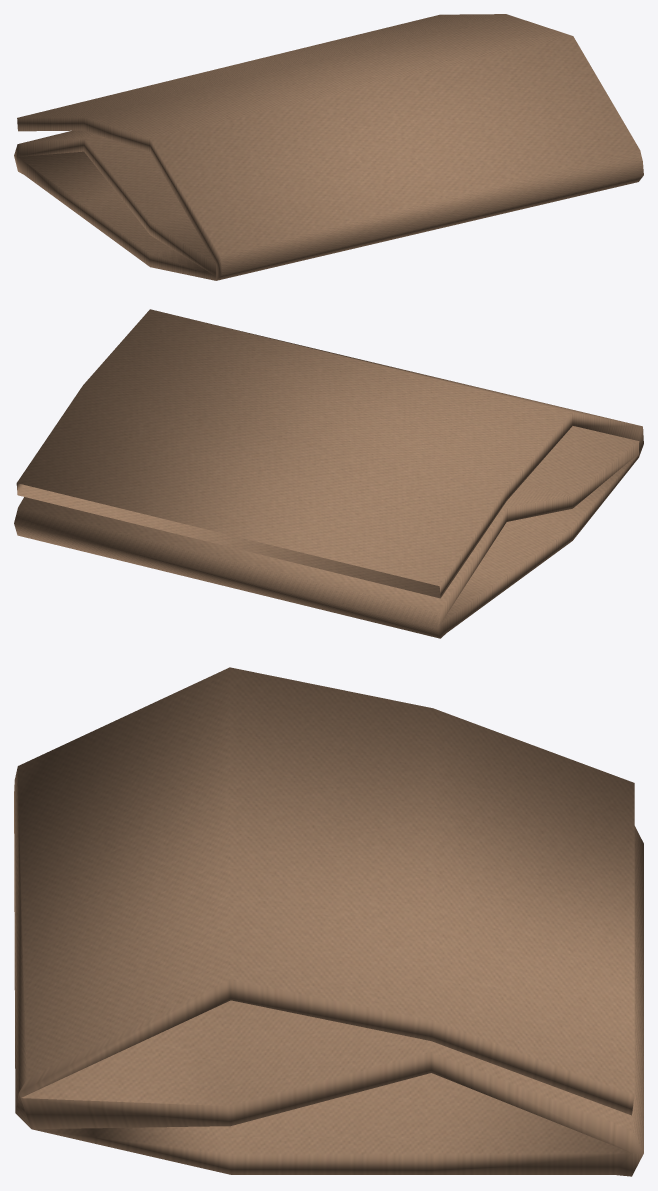
Rendered from Blanket_H.FBX.
The picture shows the model from 3 angles, top to bottom: view 1: azimuth 30°, elevation 25°; view 2: azimuth 150°, elevation 25°; view 3: azimuth 270°, elevation 25°; orthographic projection. The views are drawn at different scales.
Parts seen in each view (by area): view 1: Blanket; view 2: Blanket; view 3: Blanket.
Boxes of the visible parts, <box> form: Blanket: <box>14,14,643,280</box>; Blanket: <box>14,309,643,638</box>; Blanket: <box>14,667,643,1176</box>.
Size of the model in its own units: 123 by 35.98 by 105.
